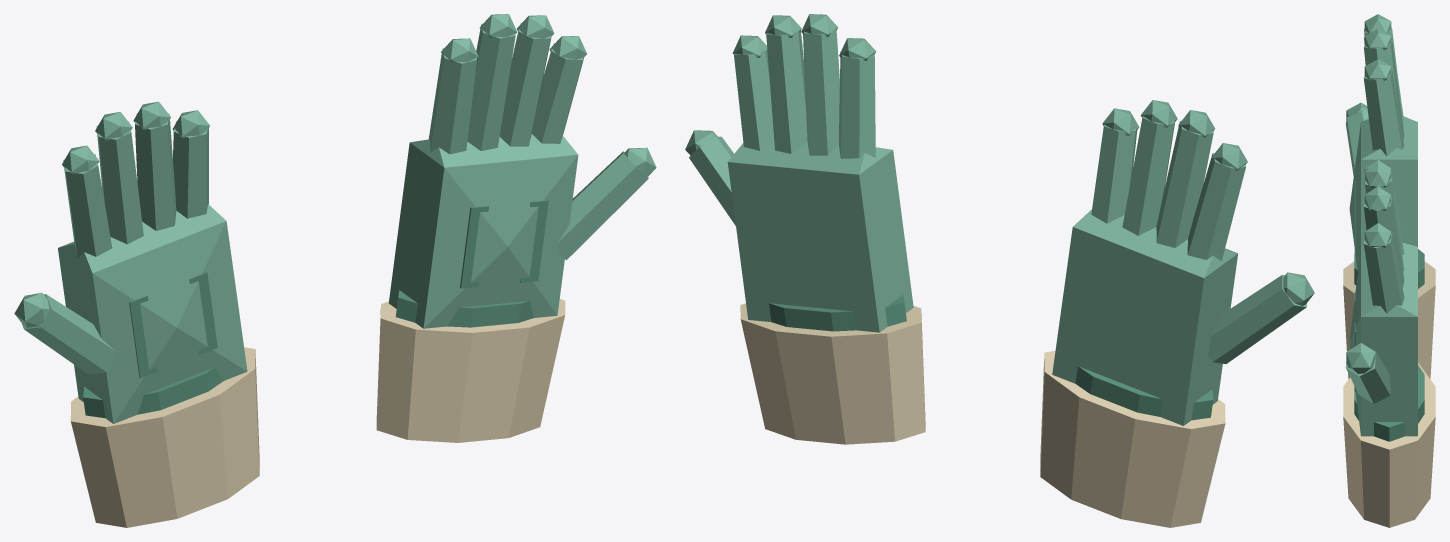
The model's file is guantes.glb.
The picture shows the model from 3 angles, left to right: view 1: azimuth 30°, elevation 25°; view 2: azimuth 150°, elevation 25°; view 3: azimuth 270°, elevation 25°; orthographic projection. The views are drawn at different scales.
Visible parts, largest first — view 1: guante_der_guante, guante_izq_guante, guante_der_puno_guante, guante_izq_puno_guante, guante_izq_guante_osc, guante_der_guante_osc; view 2: guante_izq_guante, guante_der_guante, guante_der_puno_guante, guante_izq_puno_guante, guante_izq_guante_osc, guante_der_guante_osc; view 3: guante_der_guante, guante_izq_guante, guante_der_puno_guante, guante_izq_puno_guante, guante_der_guante_osc, guante_izq_guante_osc.
Boxes of the visible parts, bbox=[...] form: guante_der_guante: bbox=[389, 14, 656, 328]; guante_izq_guante: bbox=[14, 101, 247, 423]; guante_der_puno_guante: bbox=[376, 299, 565, 442]; guante_izq_puno_guante: bbox=[70, 347, 259, 527]; guante_izq_guante_osc: bbox=[83, 272, 223, 417]; guante_der_guante_osc: bbox=[395, 200, 548, 327]; guante_izq_guante: bbox=[1052, 100, 1314, 425]; guante_der_guante: bbox=[685, 14, 913, 332]; guante_der_puno_guante: bbox=[740, 303, 925, 444]; guante_izq_puno_guante: bbox=[1040, 350, 1225, 527]; guante_izq_guante_osc: bbox=[1075, 366, 1213, 420]; guante_der_guante_osc: bbox=[769, 295, 906, 331]; guante_der_guante: bbox=[1345, 160, 1417, 436]; guante_izq_guante: bbox=[1345, 14, 1417, 271]; guante_der_puno_guante: bbox=[1343, 363, 1435, 527]; guante_izq_puno_guante: bbox=[1343, 261, 1435, 378]; guante_der_guante_osc: bbox=[1354, 291, 1424, 441]; guante_izq_guante_osc: bbox=[1354, 164, 1424, 288].
Bounding box in the file's own units: 0.4197 × 0.2651 × 0.0649.
